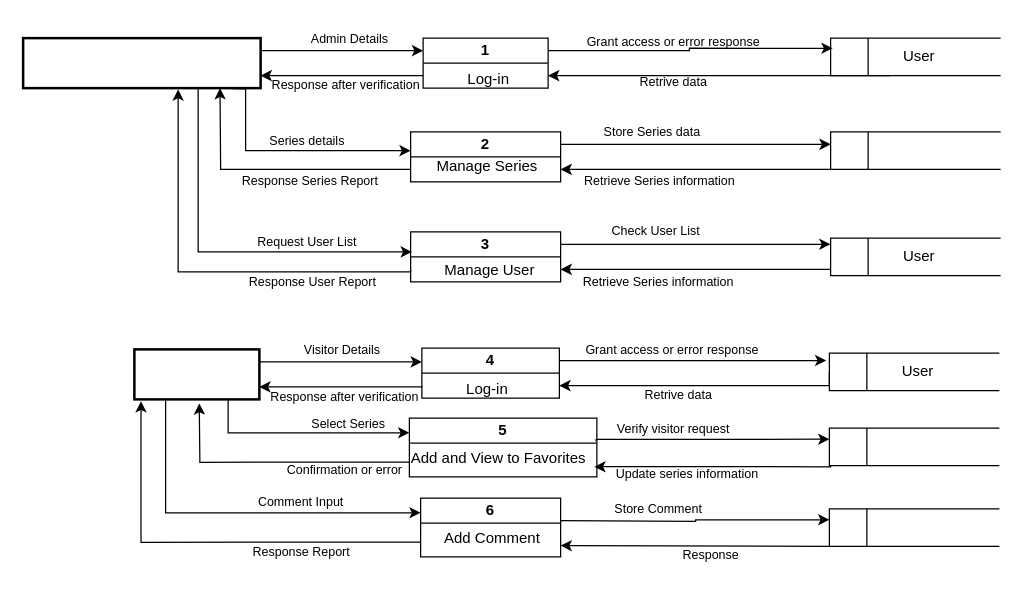
The diagram is 1023 pixels wide and 594 high, and some of its shapes have lost their labels. The shapes that lost their labels are listed below. From the top down, each one's centre as x and y in pixels, then its label:
(x=141, y=62): Admin
(x=915, y=150): Series
(x=196, y=374): Visitor
(x=913, y=446): Favorites
(x=913, y=527): Comments
